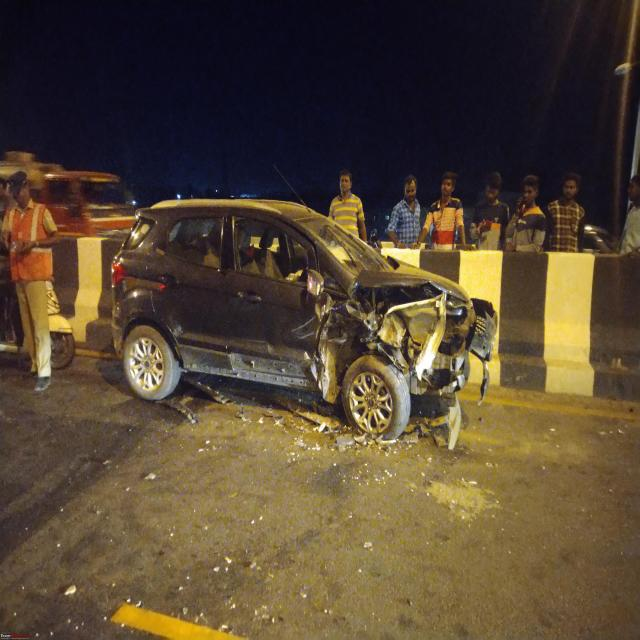accident: (111, 200, 492, 440)
